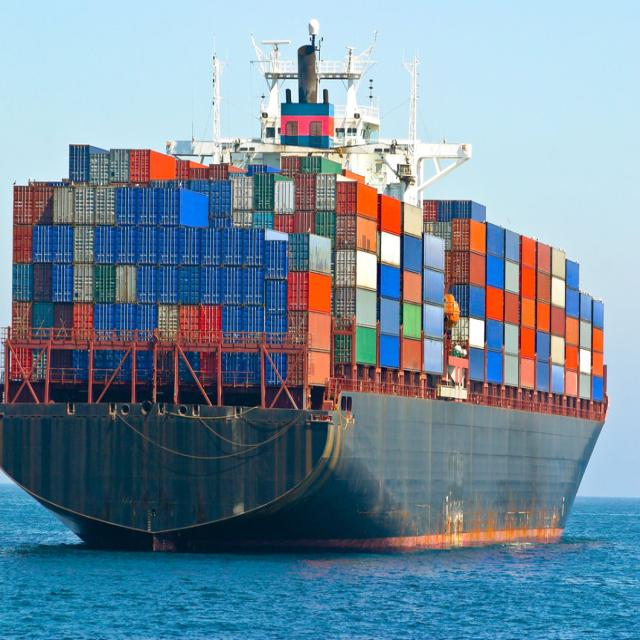cargoship: (0, 18, 606, 552)
